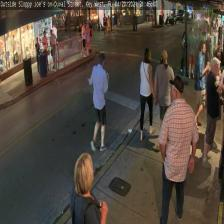person: (158, 75, 196, 224), (69, 152, 107, 223), (87, 53, 110, 150), (154, 50, 176, 150), (139, 47, 156, 141)
